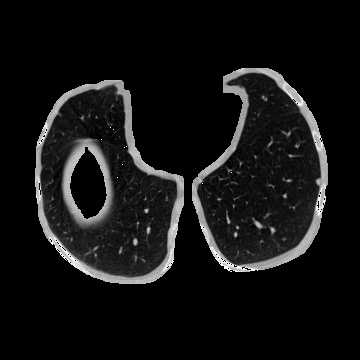PN: (315, 178, 321, 184)
